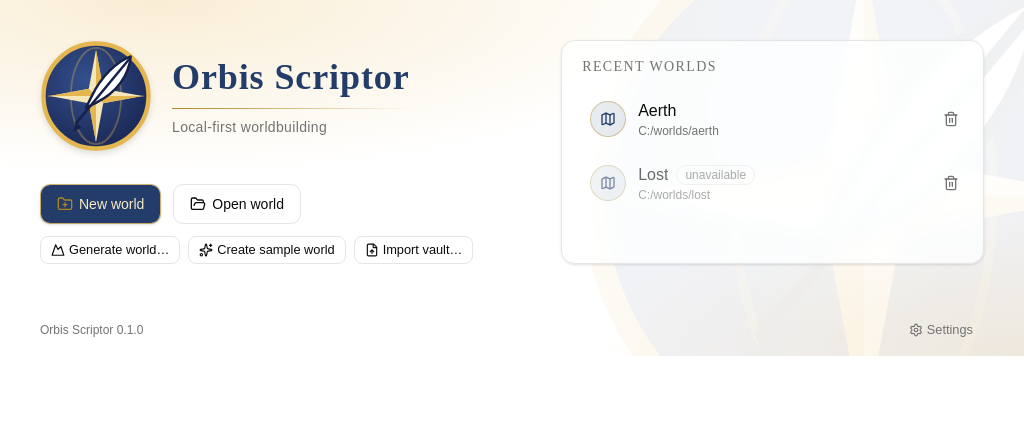
Scenario: WelcomePage › shows the error message when opening fails
The width and height of the screenshot is (1024, 443).
Click the button "Aerth C:/worlds/aerth" at {"x": 608, "y": 119}, box 578,89 -> 931,149
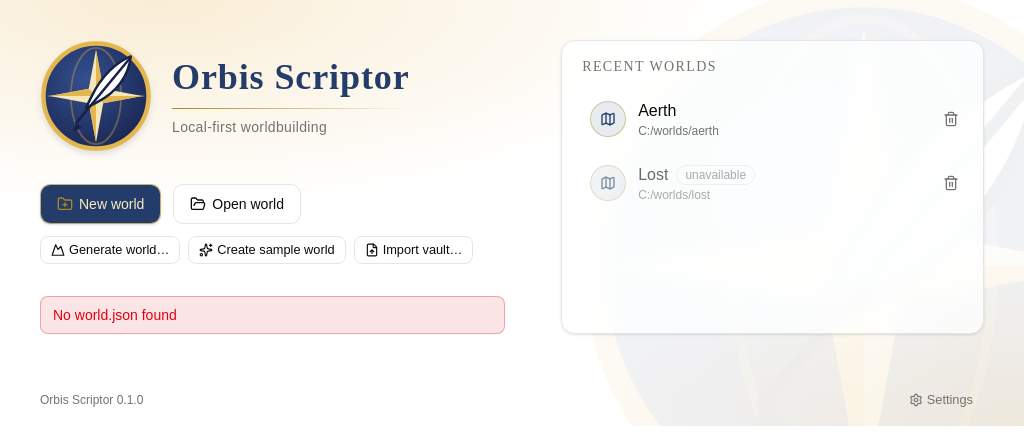
Expected: the message reads "No world.json found", 53,307 -> 177,323
